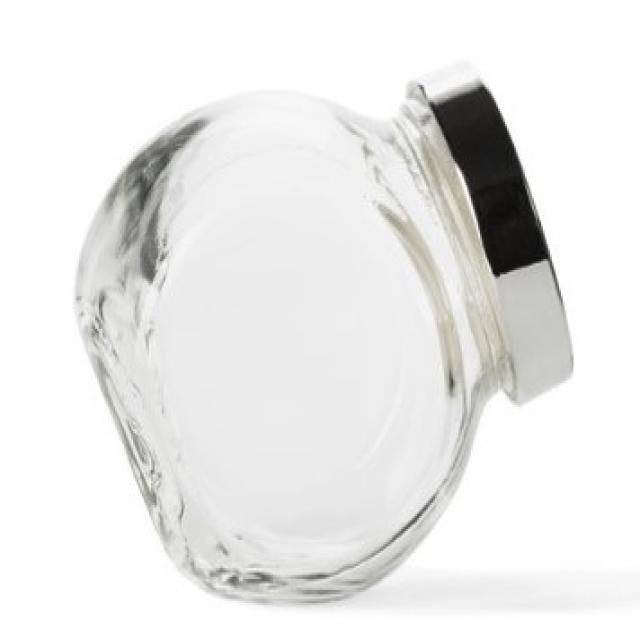electronic: (72, 70, 577, 606)
